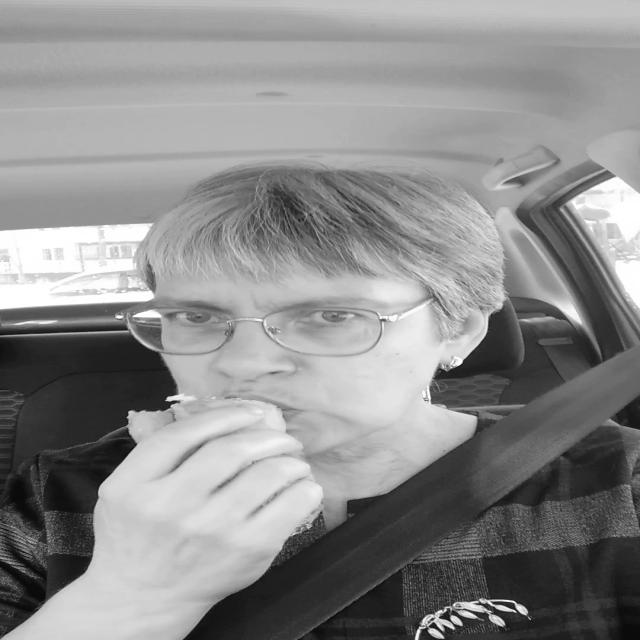Eating: (122, 389, 314, 536)
Seatbelt: (200, 344, 640, 640)
